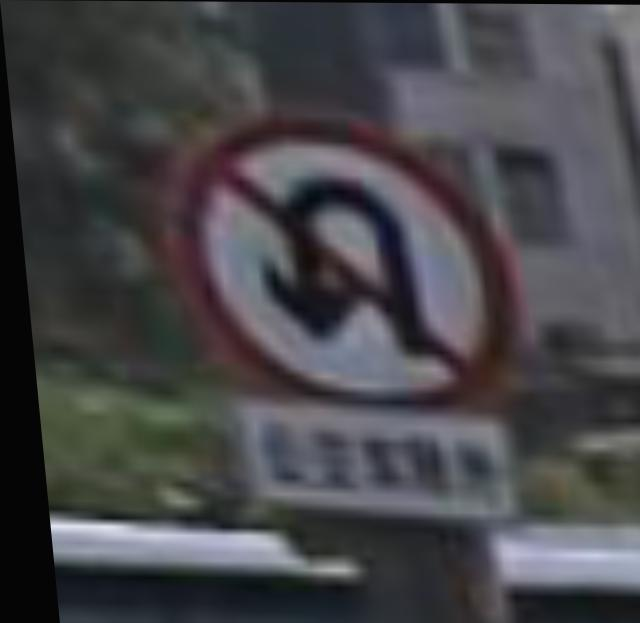not_u_turn_left: (157, 122, 531, 405)
